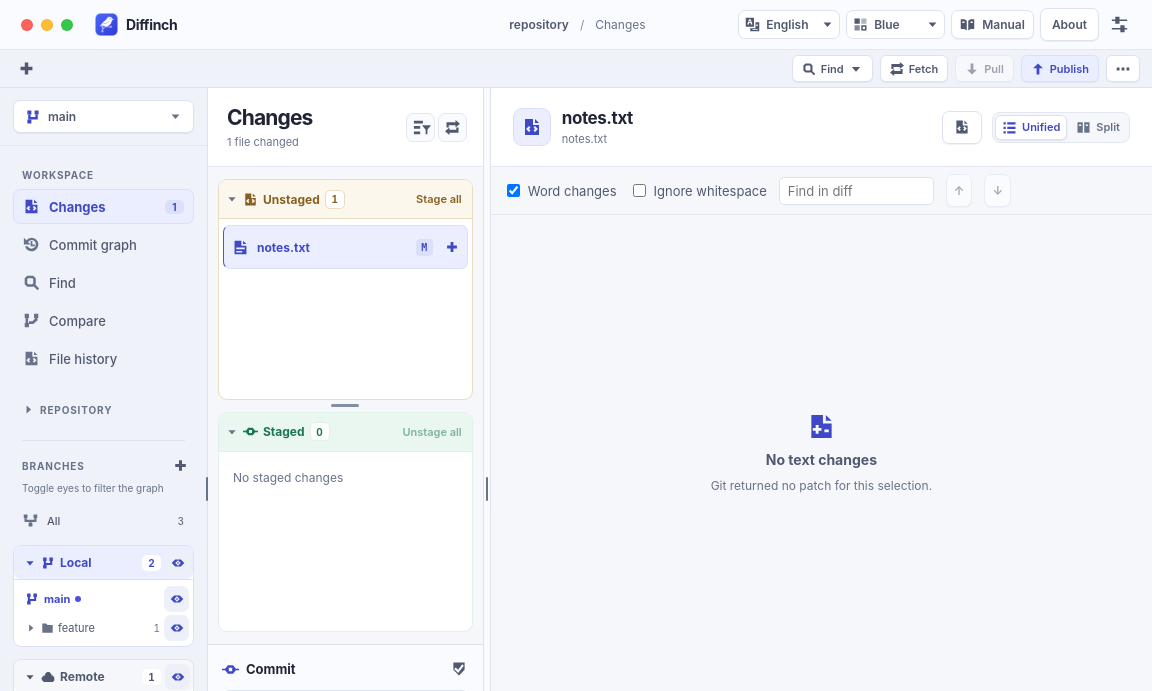
Test: keeps the reviewed branch when confirming Rebase current branch… after a refresh
Click the button "Commit graph" at {"x": 104, "y": 244}, box [13,227,194,262]
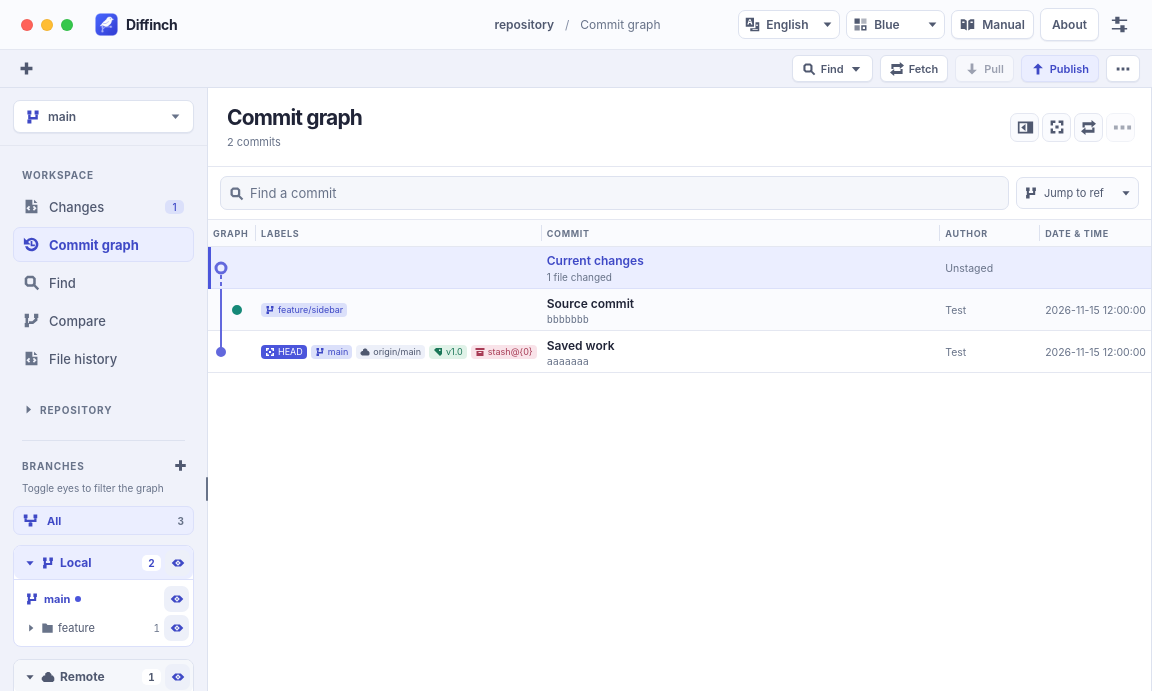
Click the button with aria-label "Source commit," at {"x": 229, "y": 310}, box [208,289,1151,331]
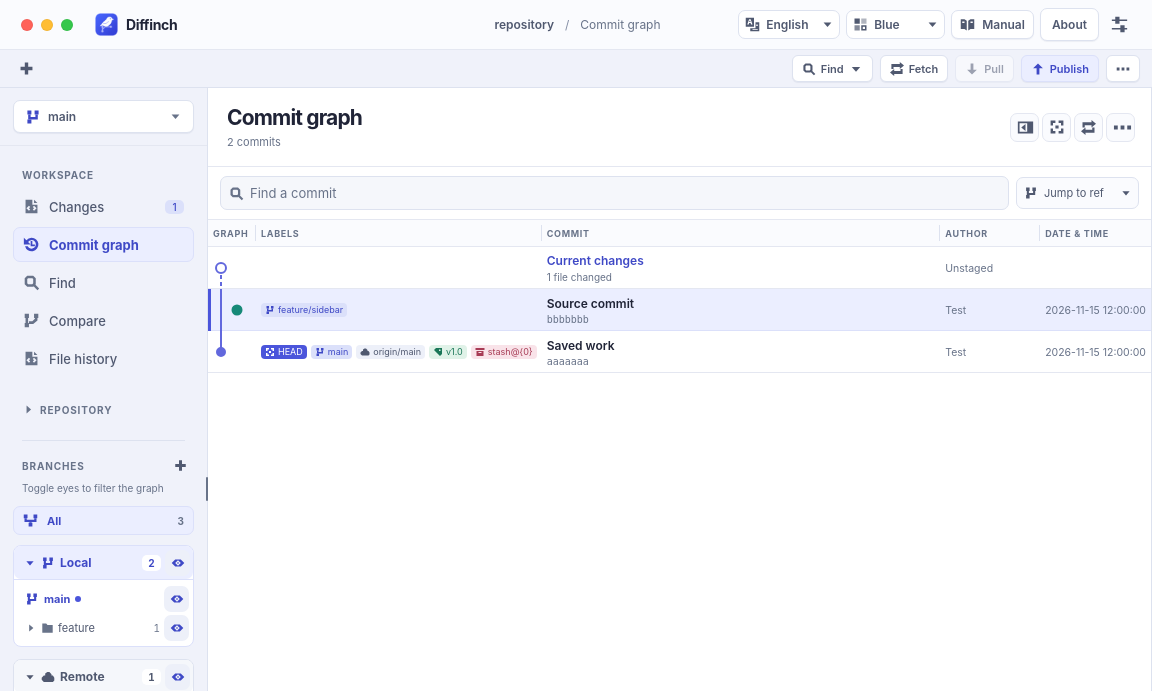
Click the button named "Commit actions" at {"x": 1120, "y": 127}, box [1106,112,1135,142]
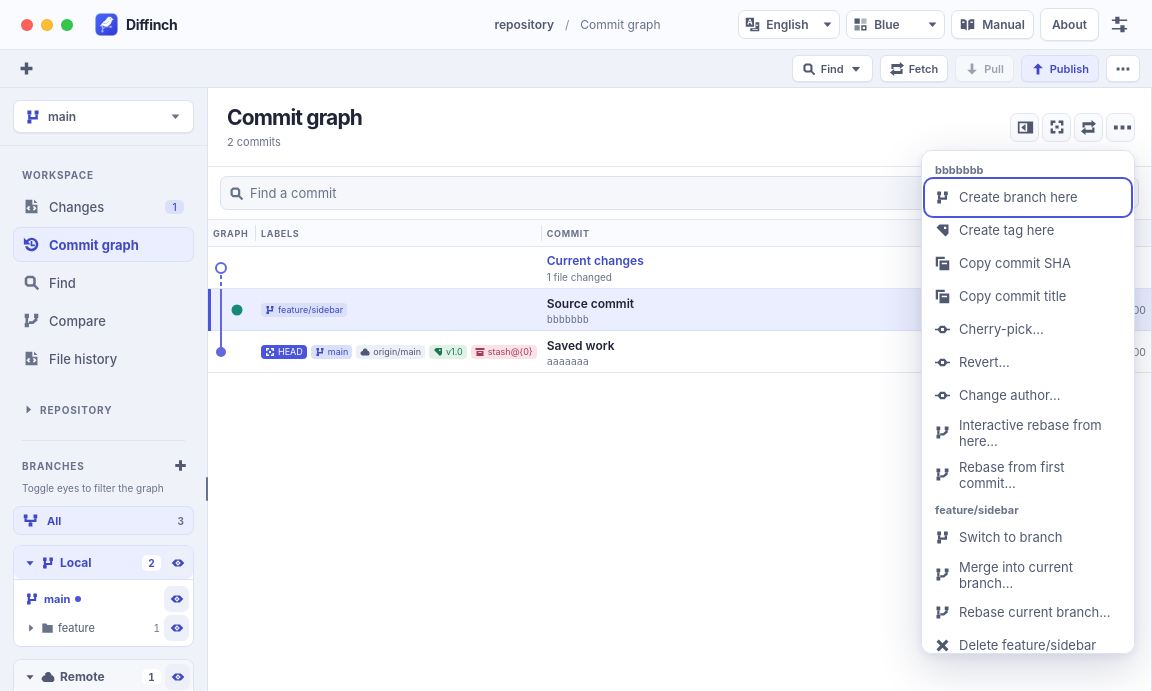
Click the button "Rebase current branch…" at {"x": 1028, "y": 612}, box [927,596,1129,628]
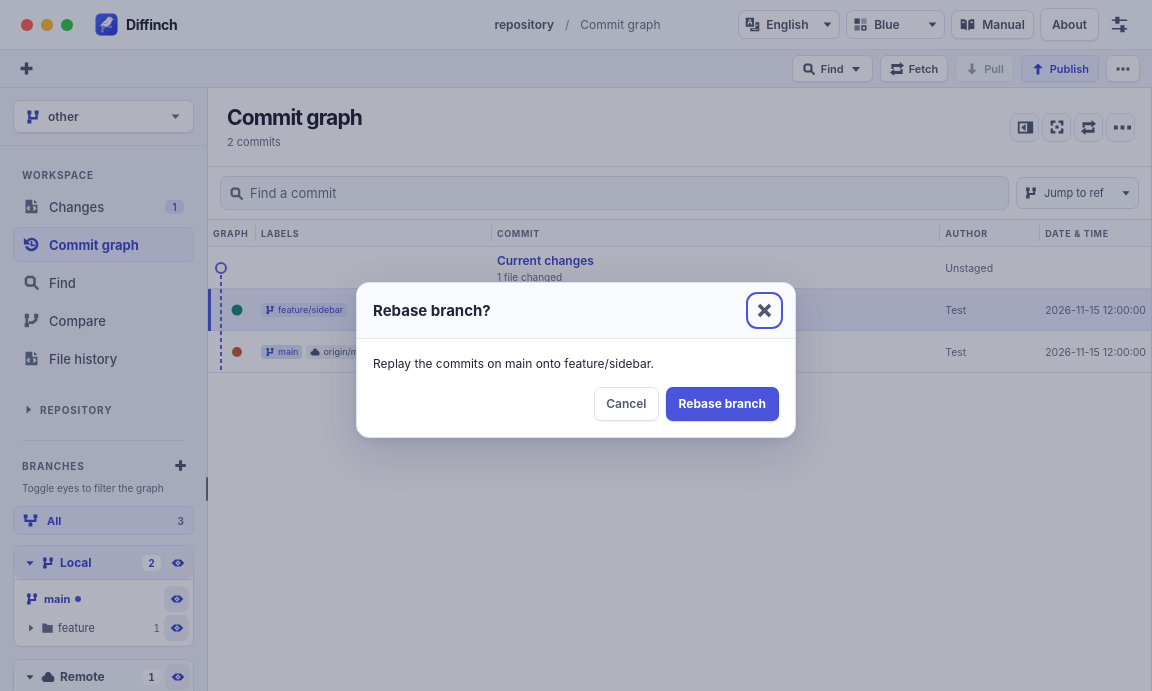
Click the button "Rebase branch" at {"x": 722, "y": 404}, box [666,387,779,421]
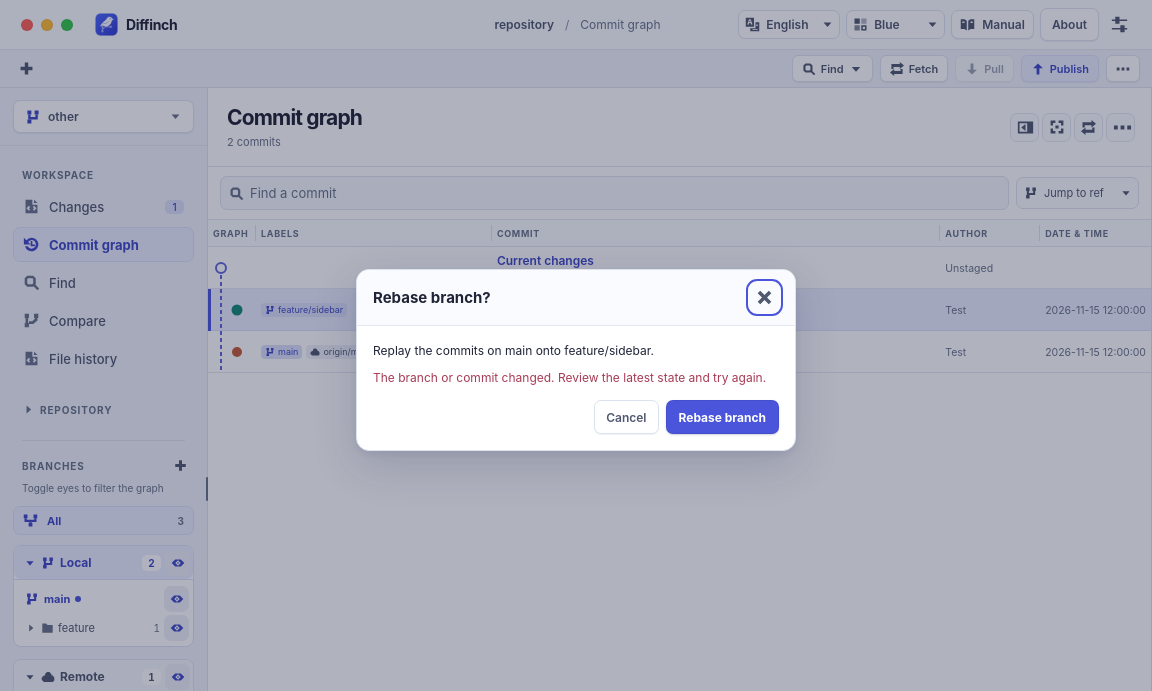
Expected: the message shows "branch or commit changed", [373,370,766,385]
